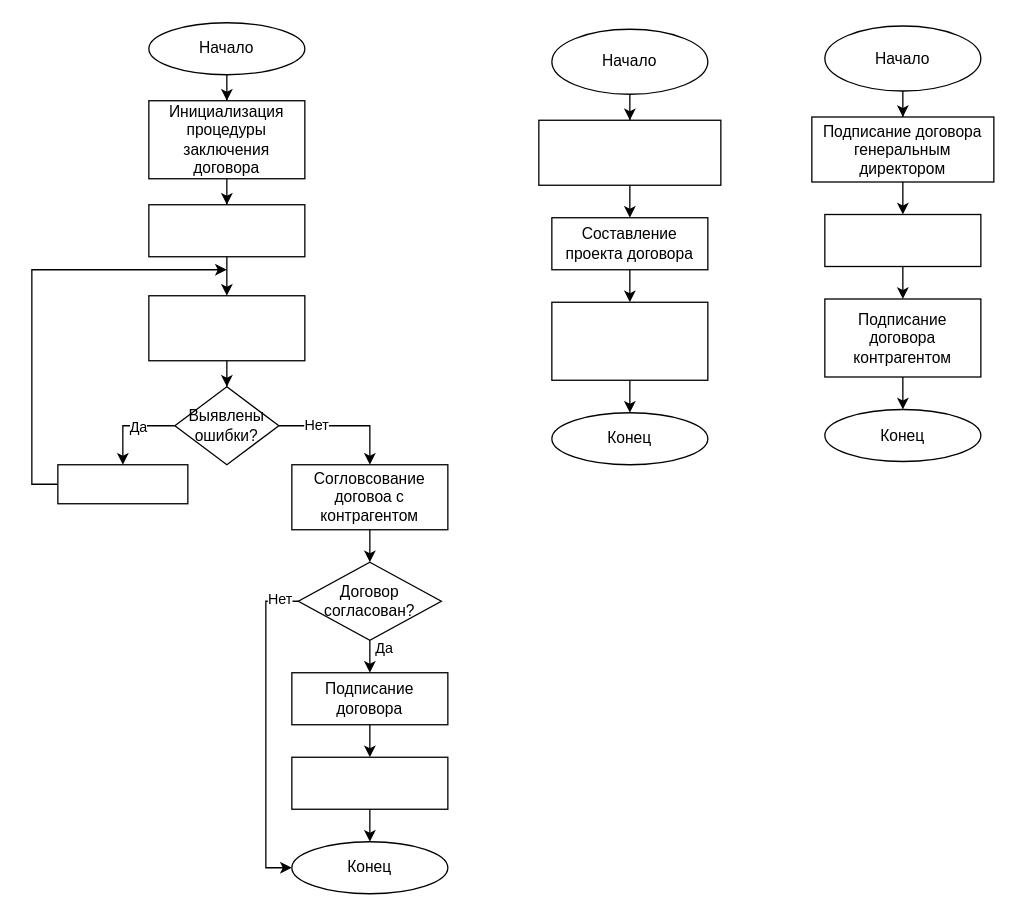
Image size: 1017x916. Some labels were removed from this diagram. Here are the shapes that lost their labels. From the top down, the centre of each, then its label:
pixel 629 152: Выявление требований заказчика к форме и содержанию договора
pixel 226 230: Подговтока проекта договора
pixel 902 239: Регистрация договора
pixel 226 327: Внутреннее согласование договора
pixel 629 340: Передача проекта договора на согласование внутри компании
pixel 122 483: Иправление ошибок
pixel 369 782: Исполнение договора
